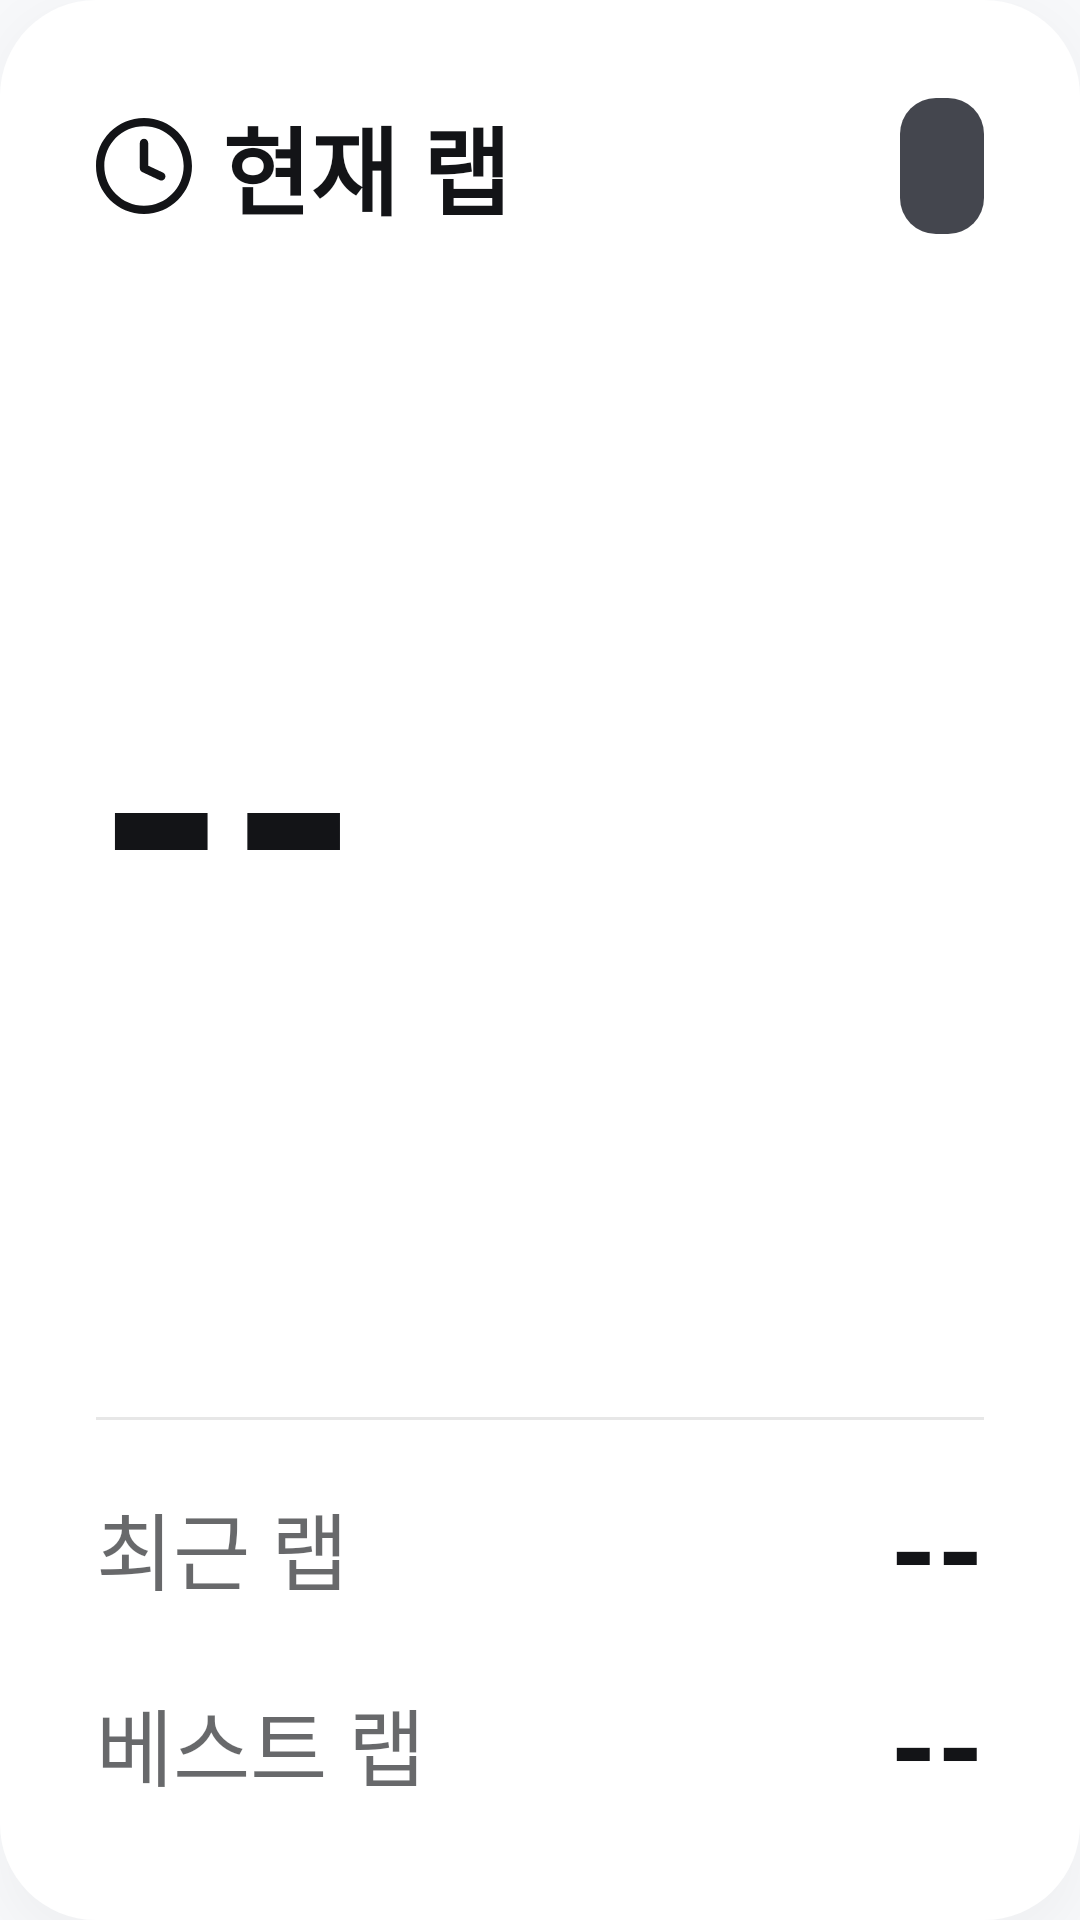

Point at icon controls on the screen. Image size 1080px×1920px, points as (x=x, y=y).
pleos clock: (x=144, y=166)
